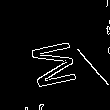M_W: (20, 37, 77, 93)
